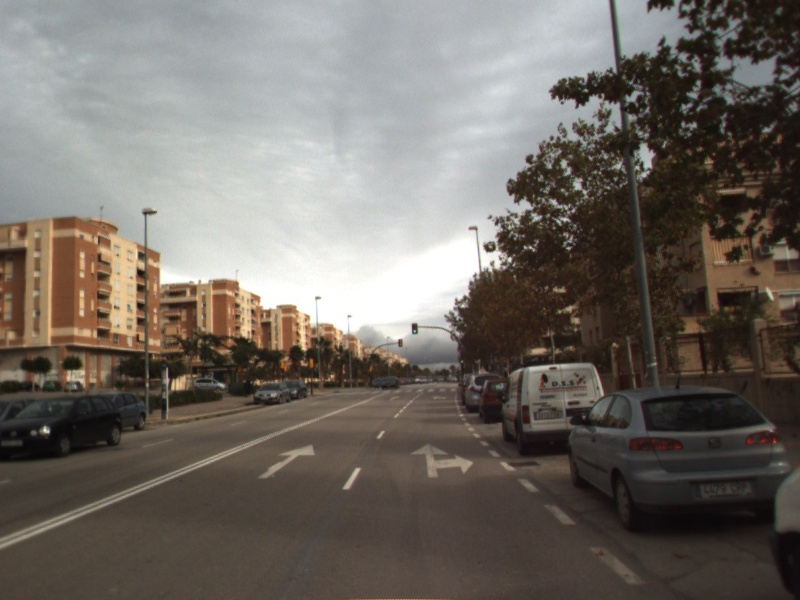STRAIGHT: (256, 442, 317, 481)
STRAIGHT_RIGHT: (409, 441, 476, 480)
